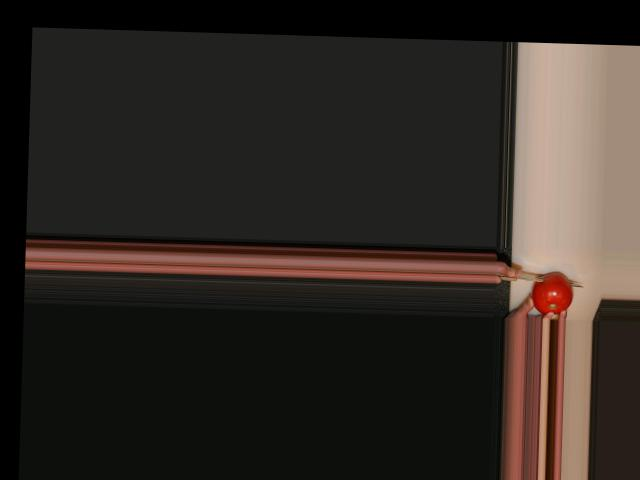tomato: (531, 272, 574, 315)
